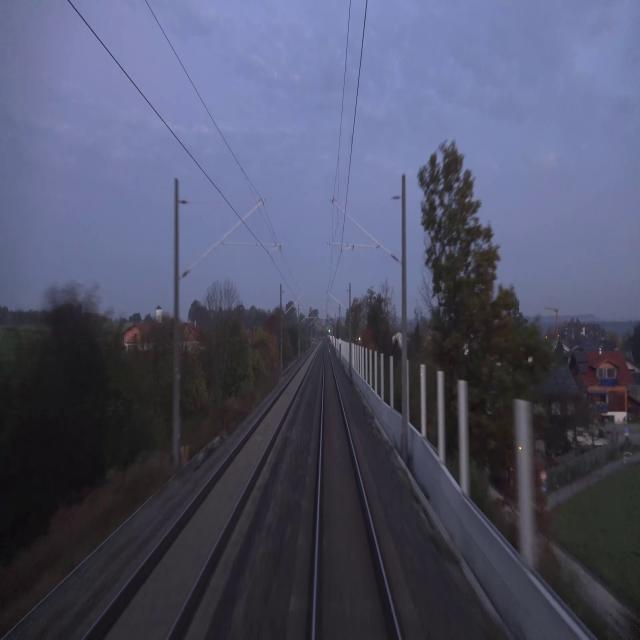rail-track: (87, 351, 314, 639), (316, 348, 397, 639)
